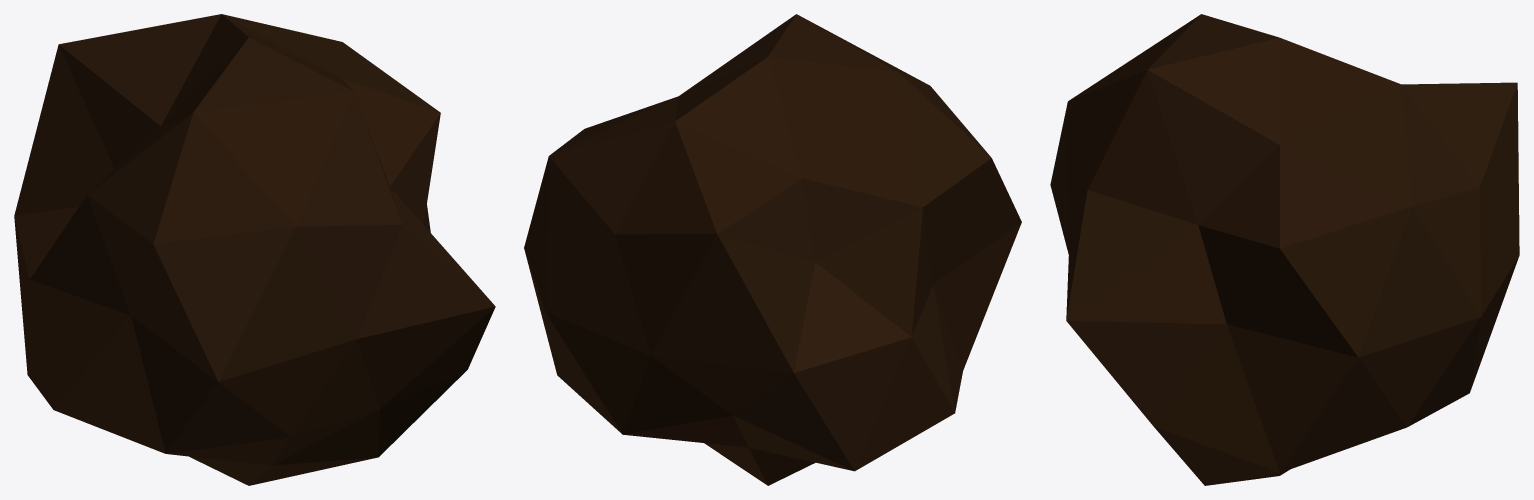
File: rock.obj
3 renders of one model, left to right at view 1: azimuth 30°, elevation 25°; view 2: azimuth 150°, elevation 25°; view 3: azimuth 270°, elevation 25°, orthographic. The views are drawn at different scales.
Parts seen in each view (by area): view 1: Icosphere; view 2: Icosphere; view 3: Icosphere.
Boxes of the visible parts, x1=… form: Icosphere: x1=14, y1=14, x2=495, y2=485; Icosphere: x1=524, y1=14, x2=1021, y2=485; Icosphere: x1=1050, y1=14, x2=1519, y2=485.
Bounding box in the file's own units: 2.07 × 2.16 × 2.1.
